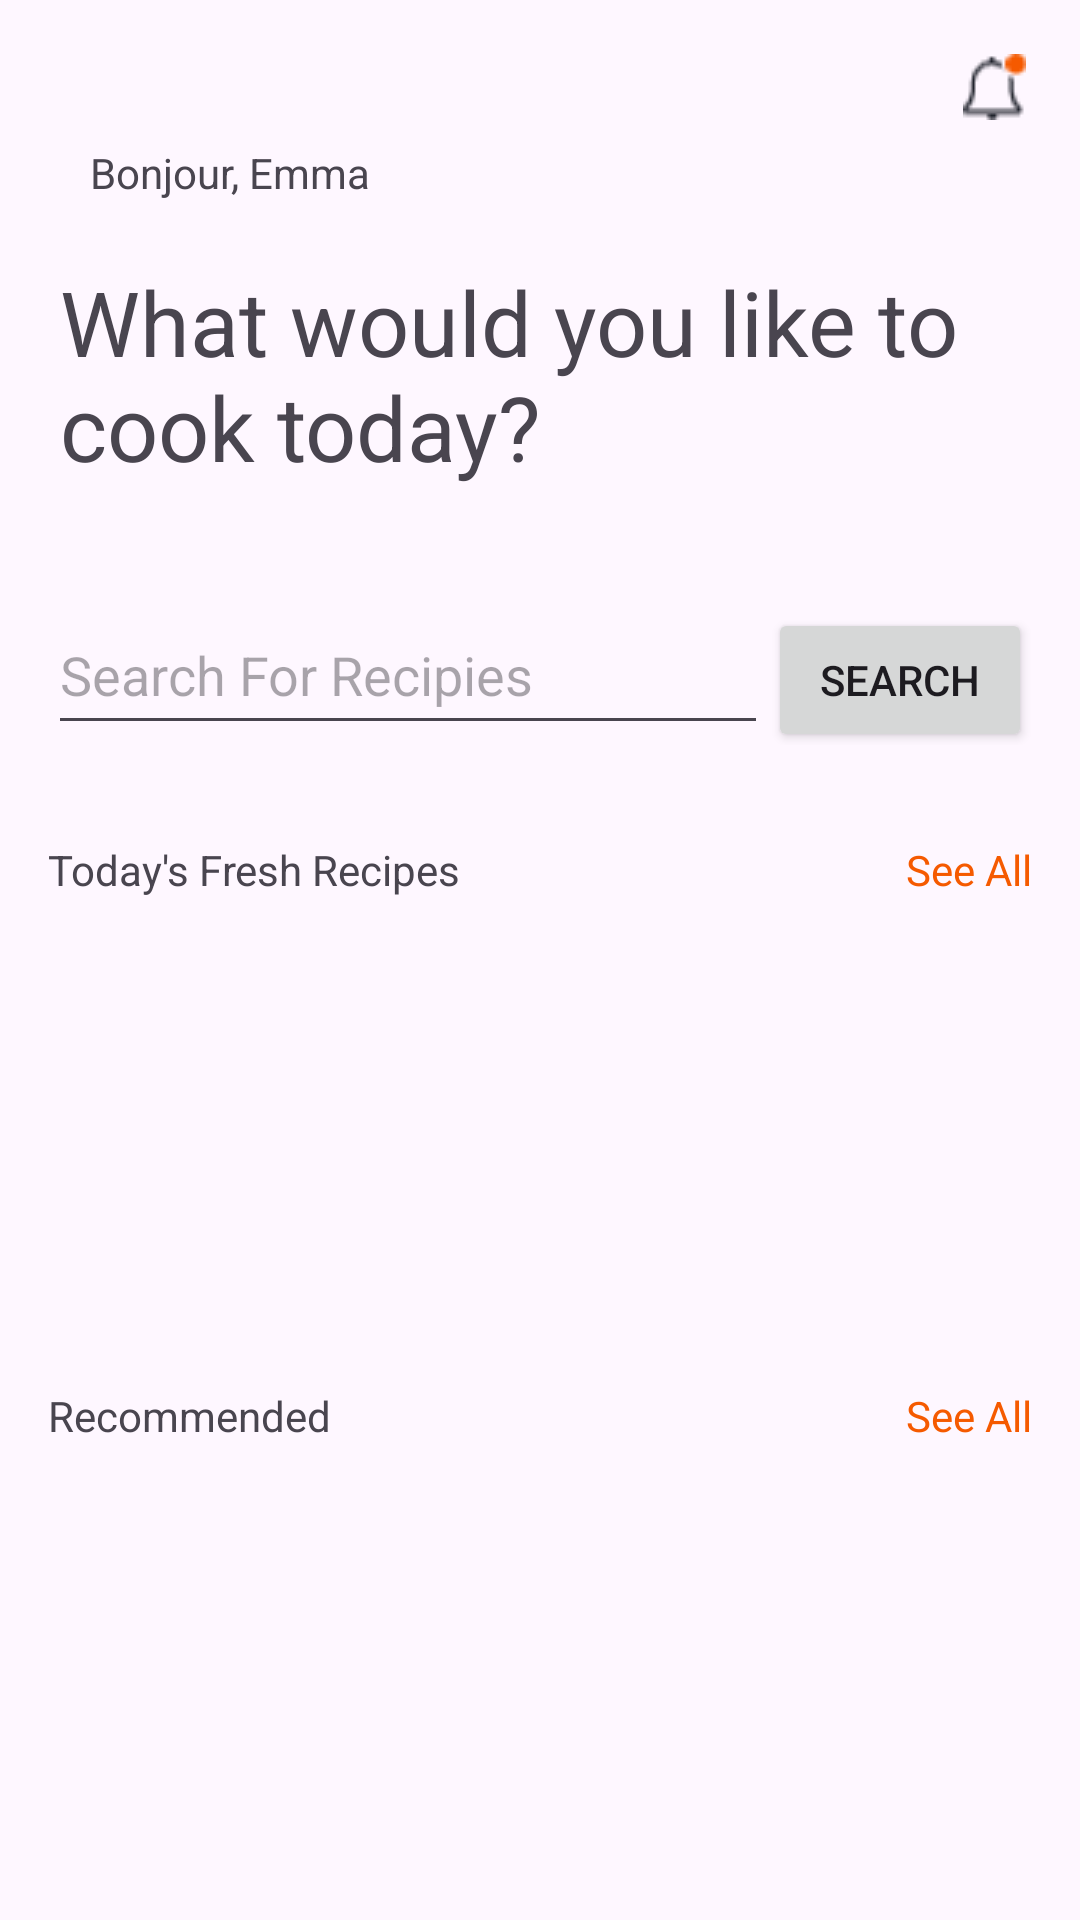

Named icons in this screenshot (1080 × 1920) and their bounding boxes, (x1, y1, x2, y2):
notifications: (963, 54, 1026, 120)
